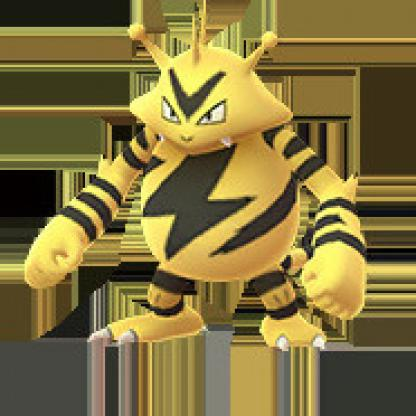Electabuzz: (1, 10, 416, 416)
